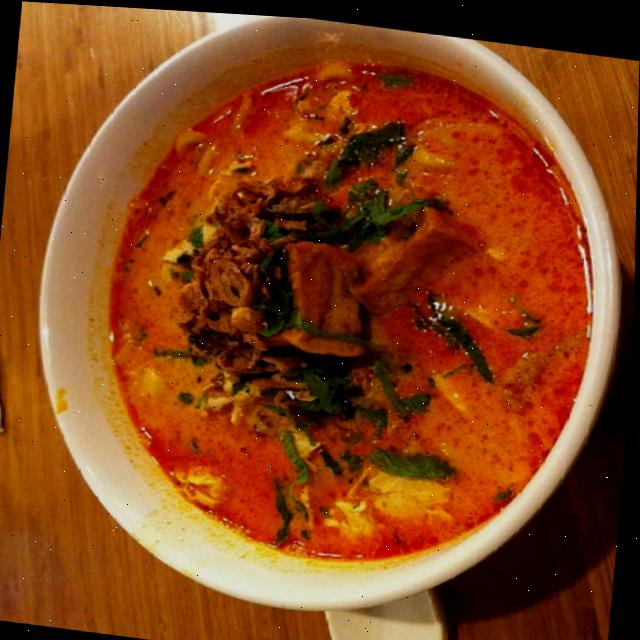面条主食: (51, 22, 625, 590)
